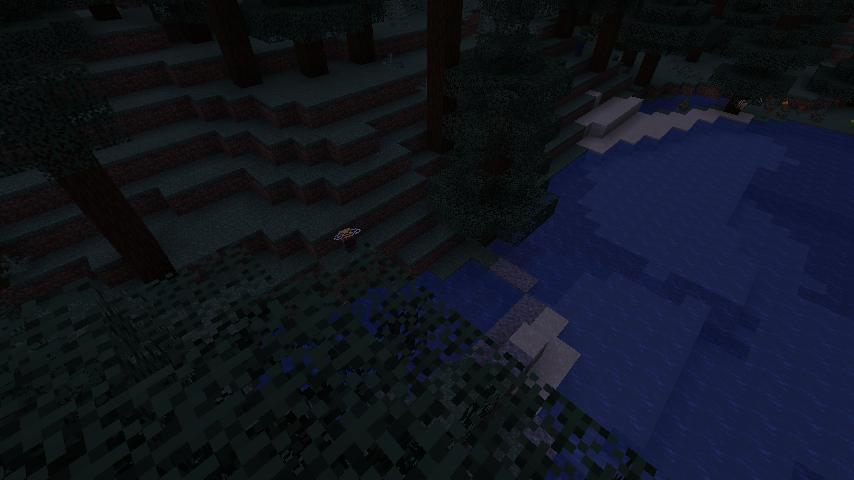bee: (332, 226, 364, 253)
